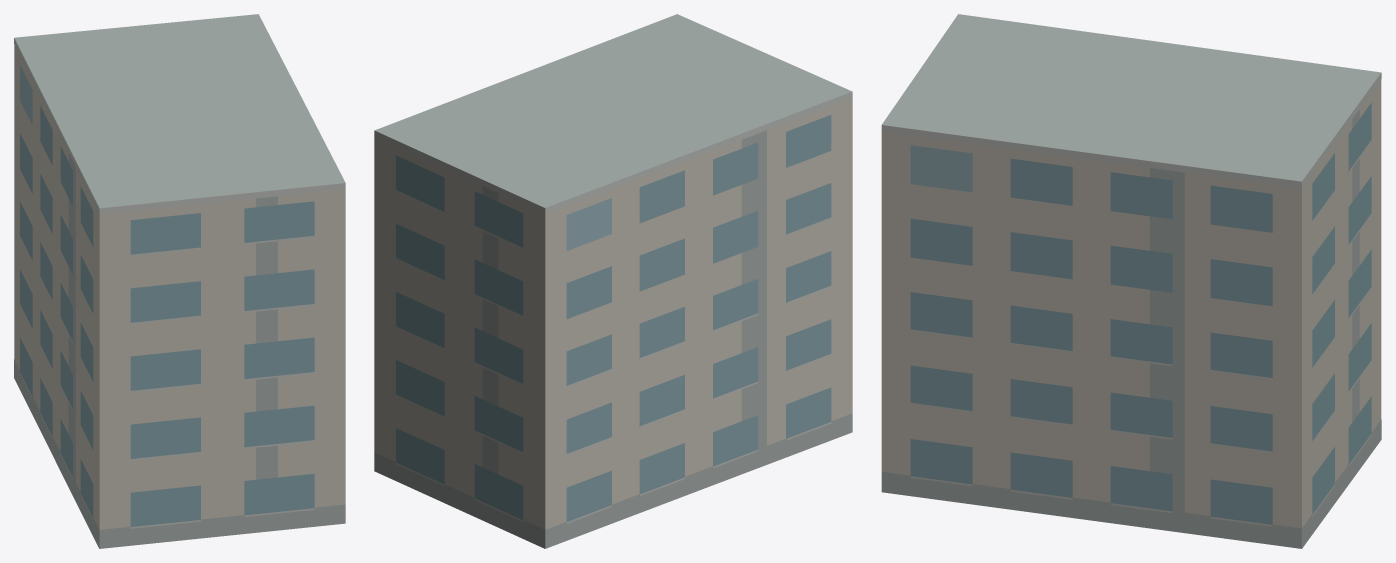
Rendered from survey-upis-32852779.glb.
The picture shows the model from 3 angles, left to right: view 1: azimuth 30°, elevation 25°; view 2: azimuth 150°, elevation 25°; view 3: azimuth 270°, elevation 25°; orthographic projection. The views are drawn at different scales.
Visible parts, largest first — view 1: survey-upis-32852779.tmp; view 2: survey-upis-32852779.tmp; view 3: survey-upis-32852779.tmp.
Boxes of the visible parts, x1=… form: survey-upis-32852779.tmp: x1=14, y1=14, x2=345, y2=548; survey-upis-32852779.tmp: x1=374, y1=14, x2=852, y2=548; survey-upis-32852779.tmp: x1=881, y1=14, x2=1381, y2=548.
Size of the model in its own units: 13.03 by 13.3 by 16.42.
